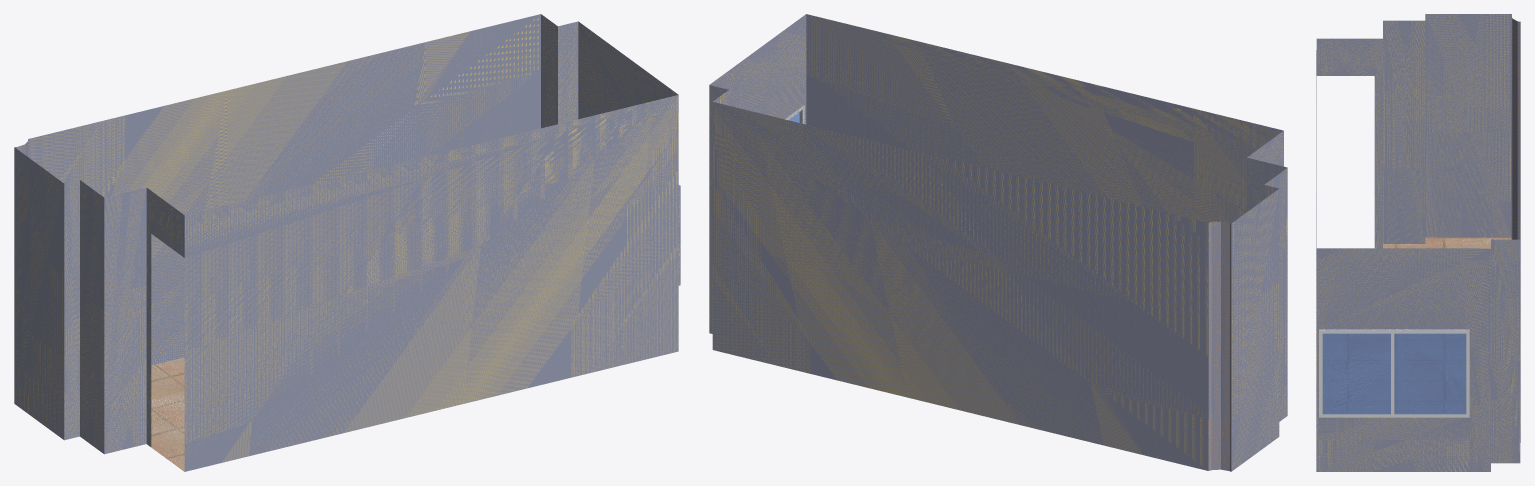
Rendered from DES007.obj.
3 renders of one model, left to right at view 1: azimuth 30°, elevation 25°; view 2: azimuth 150°, elevation 25°; view 3: azimuth 270°, elevation 25°, orthographic. The views are drawn at different scales.
Parts seen in each view (by area): view 1: Mesh6 DES007 Model; view 2: Mesh6 DES007 Model; view 3: Mesh6 DES007 Model, Mesh1 ventana2_1 DES007 Model.
Part boxes in pixels (box(x1,y1,x2,y2)): Mesh6 DES007 Model: box(14, 14, 678, 471); Mesh6 DES007 Model: box(709, 14, 1287, 471); Mesh6 DES007 Model: box(1316, 14, 1520, 471); Mesh1 ventana2_1 DES007 Model: box(1319, 329, 1469, 417).
Bounding box in the file's own units: 8.15 × 3.6 × 2.98.
Materials: 9 (2 with a texture image).
